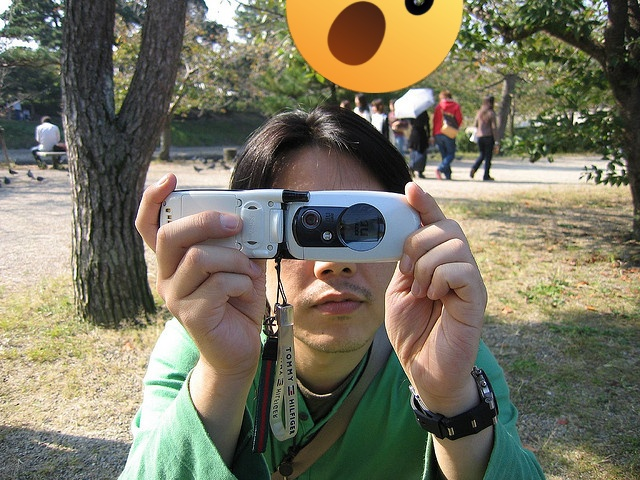wow: (286, 0, 463, 93)
